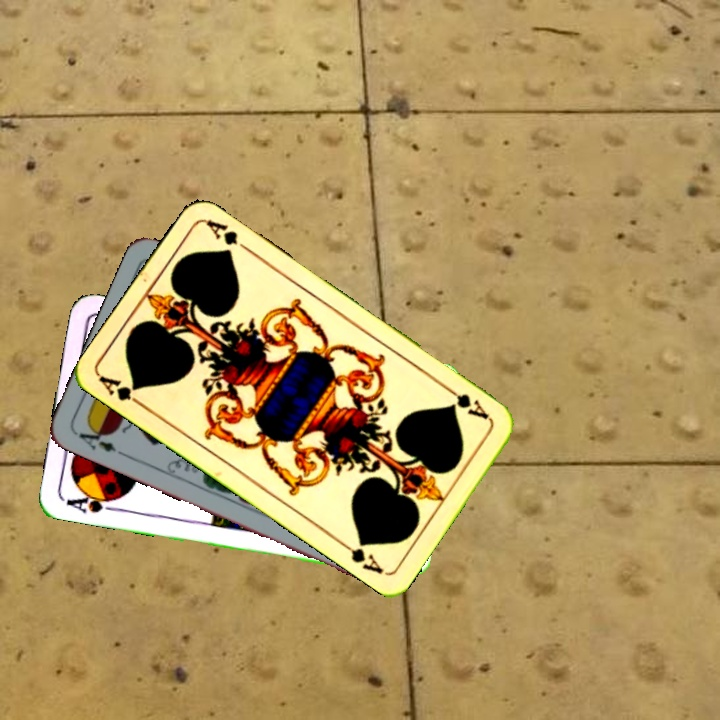EA: (72, 421, 119, 455)
GA: (95, 372, 149, 412), (442, 383, 493, 423)
SA: (62, 486, 122, 516)
